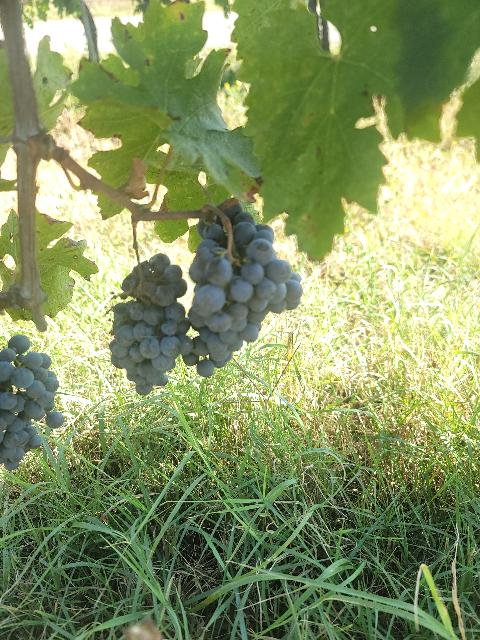grapes: (180, 202, 301, 376), (110, 254, 191, 395)
